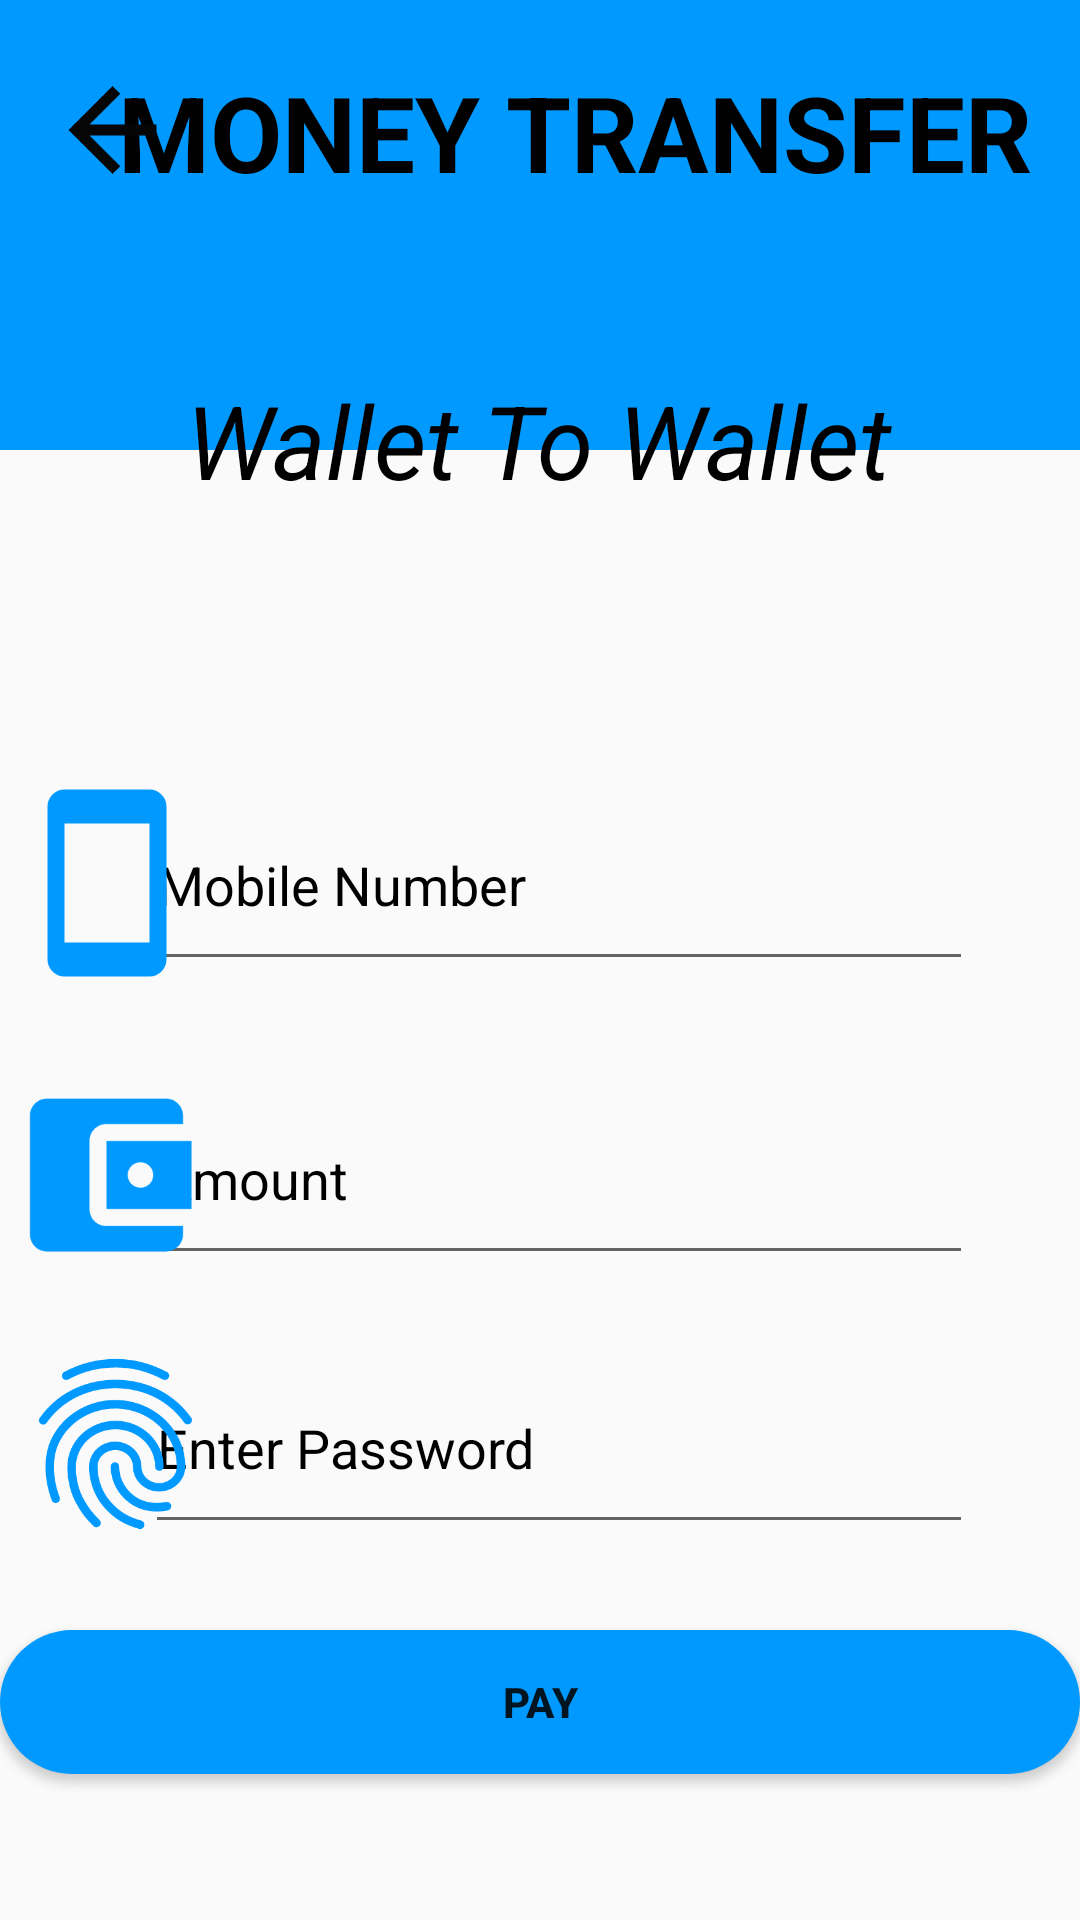

Locate icon controls on the screen. Image size 1080 x 1920, boxes as (x1, y1, x2, y2).
fingerprint: (39, 1359, 231, 1529)
wallet: (29, 1098, 213, 1252)
